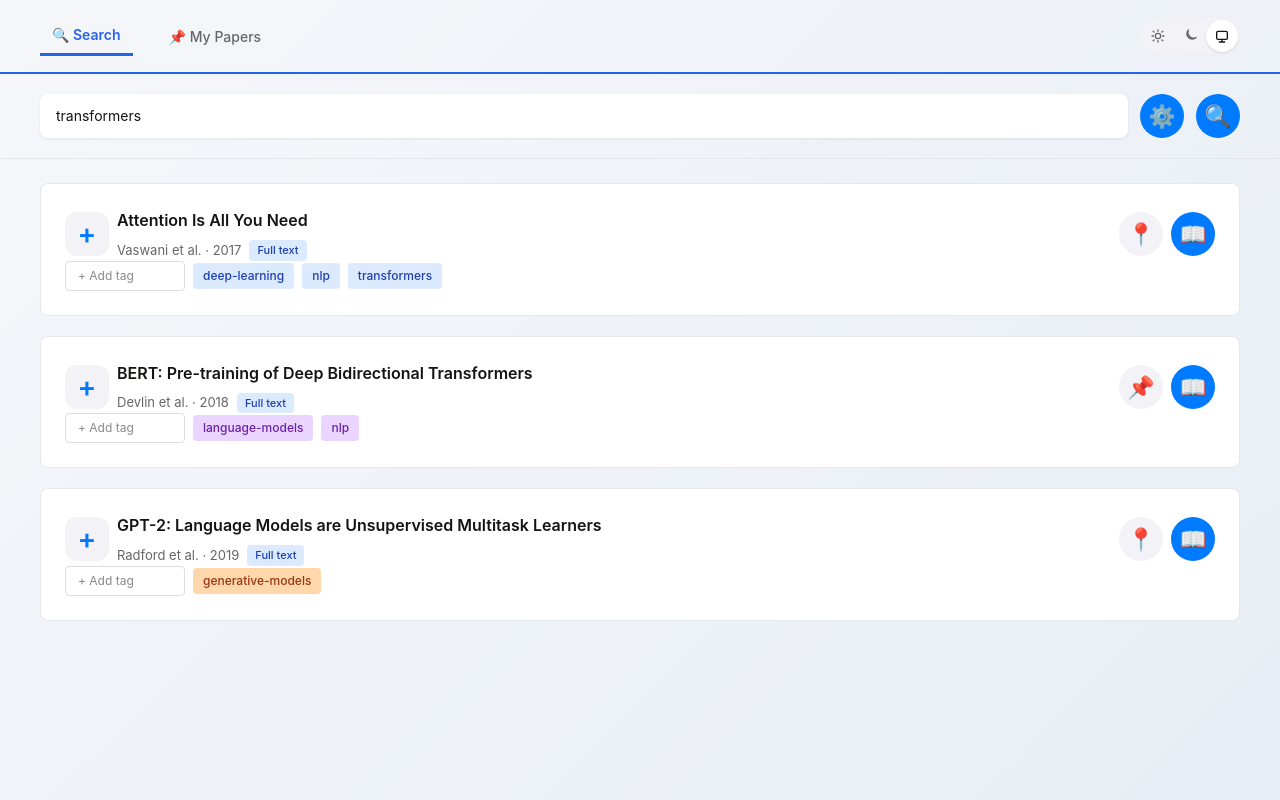
UX: Results screen › Given a pinned paper, When the user toggles the pin, Then the paper is unpinned
Expected: the heading "Attention Is All You Need" is shown, top-left (117, 210), bottom-right (308, 230)
What coordinates should you click on to do the following:
click the button named "unpin for reading"
I would click on:
 (1141, 234)
Its box is top-left (1119, 212), bottom-right (1163, 256).
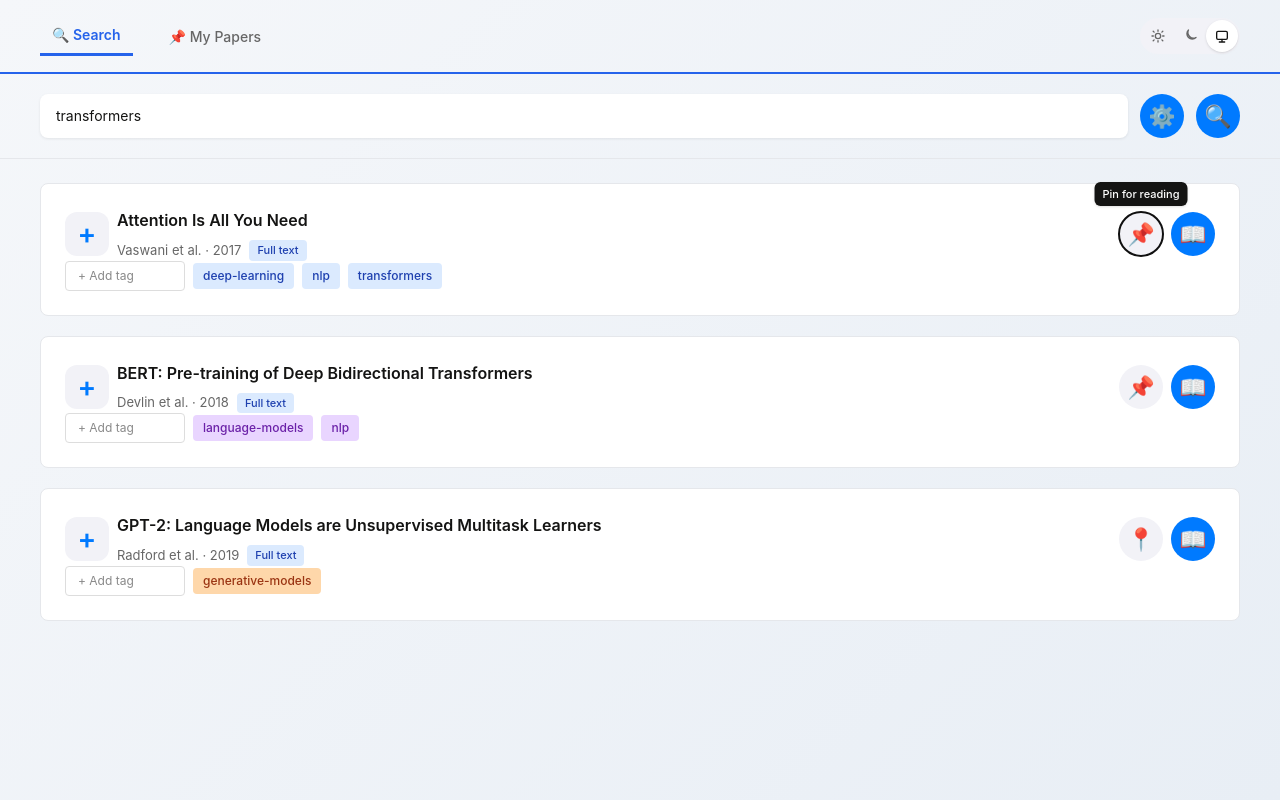
Expected: the button named "unpin for reading" shows "📌", top-left (1119, 212), bottom-right (1163, 256)
